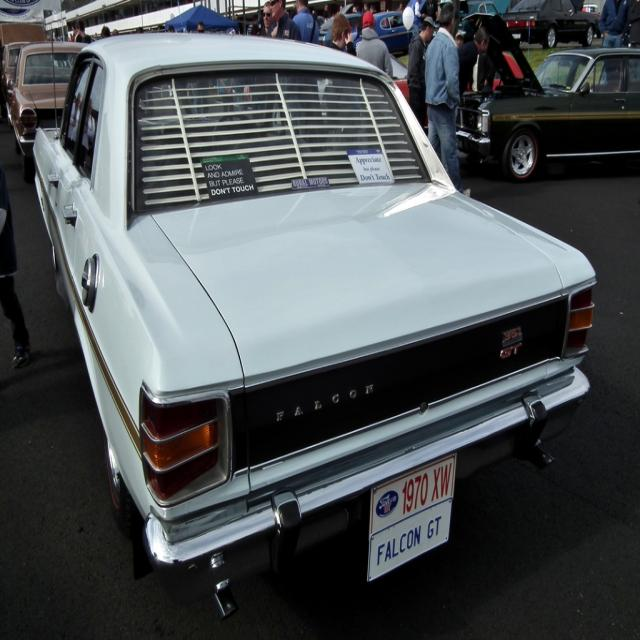other: (38, 34, 610, 602), (454, 8, 640, 180), (6, 41, 98, 178), (504, 0, 600, 52), (348, 0, 434, 50), (388, 54, 428, 132), (314, 0, 362, 48), (0, 42, 25, 100)
